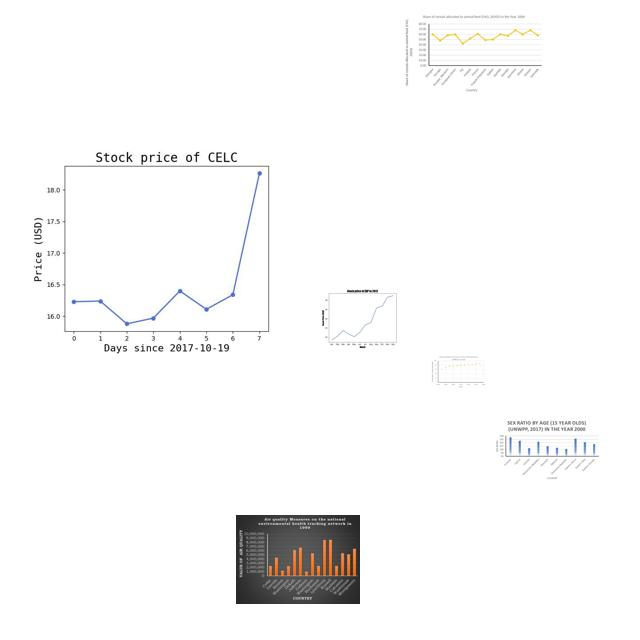Graph: (20, 140, 306, 355), (401, 12, 545, 94), (236, 515, 360, 604), (493, 419, 601, 480), (318, 285, 405, 350), (431, 355, 486, 388)
